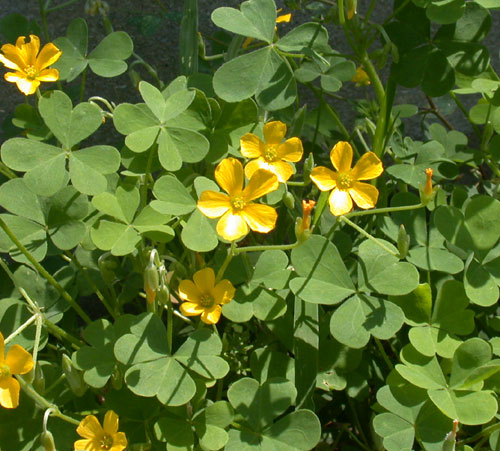oxalis: (13, 95, 216, 423), (258, 235, 500, 436), (203, 1, 357, 121)
